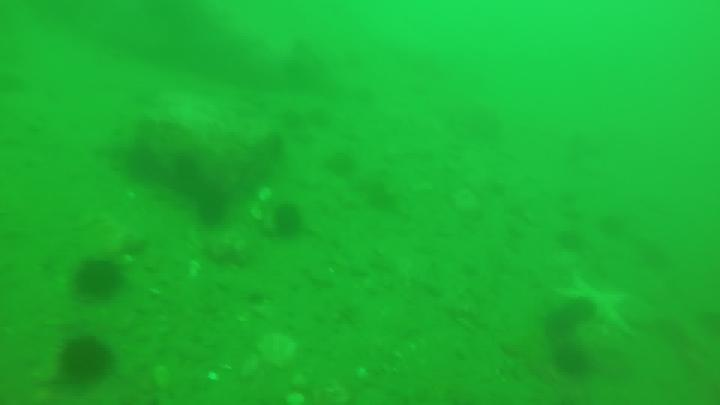echinus: (58, 337, 113, 387), (77, 258, 125, 299), (121, 143, 163, 186), (544, 311, 583, 343), (199, 190, 229, 228), (561, 349, 593, 381), (175, 146, 199, 188), (276, 205, 303, 241), (319, 157, 360, 180)
scallop: (256, 188, 277, 204), (253, 209, 266, 223)
starfish: (551, 273, 633, 338)
